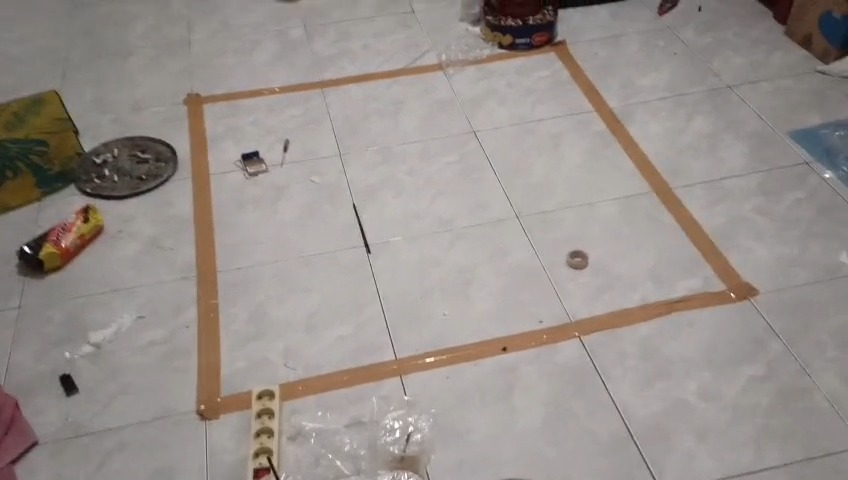floor marking: (279, 43, 758, 399), (186, 63, 442, 234), (198, 239, 252, 419)
